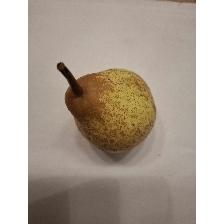Birne: (56, 56, 160, 156)
